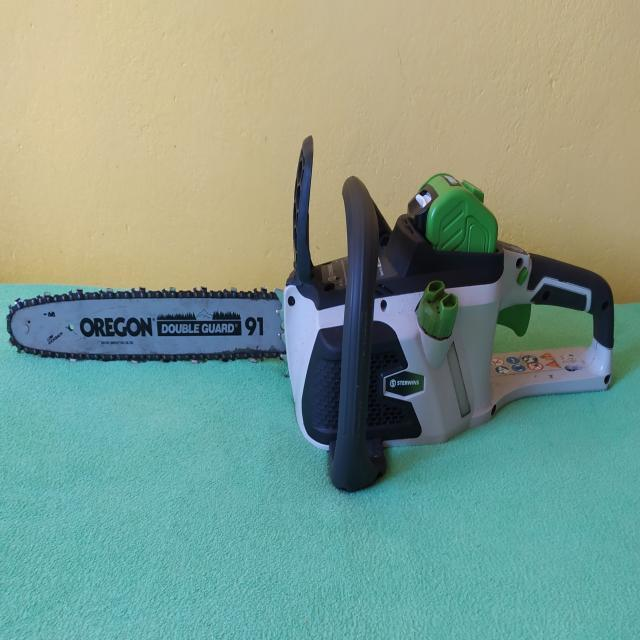Chainsaw: (5, 132, 618, 496)
